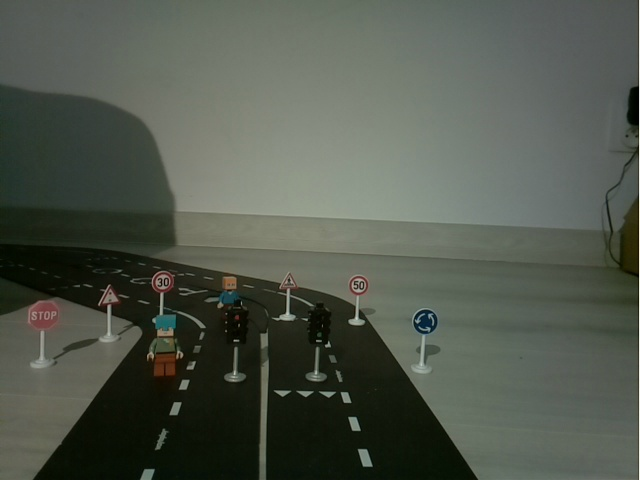green light: (307, 298, 333, 386)
limit 30: (148, 268, 176, 314)
limit 50: (343, 271, 372, 330)
pedestrian sign: (275, 271, 301, 325)
person: (215, 274, 243, 306)
red light: (226, 307, 249, 387)
round: (410, 304, 442, 376)
second person: (144, 315, 187, 380)
stop: (22, 295, 66, 373)
traffic light sign: (93, 281, 124, 345)
